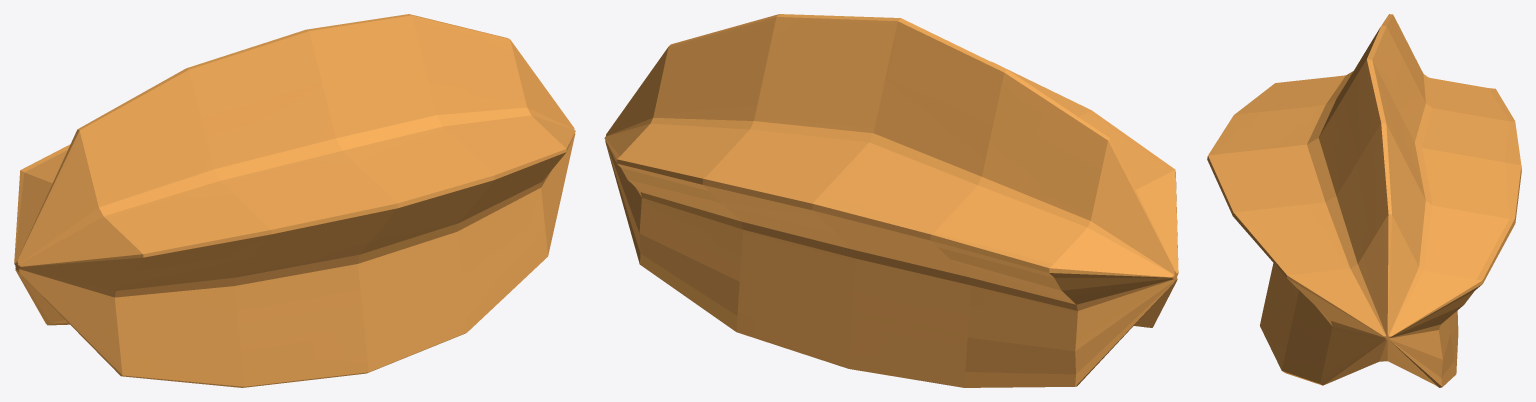
File: Carambola_Inteira.fbx
3 renders of one model, left to right at view 1: azimuth 30°, elevation 25°; view 2: azimuth 150°, elevation 25°; view 3: azimuth 270°, elevation 25°, orthographic. The views are drawn at different scales.
Parts seen in each view (by area): view 1: Cylinder.001; view 2: Cylinder.001; view 3: Cylinder.001.
Part boxes in pixels (box(x1,y1,x2,y2)): Cylinder.001: box(14, 14, 575, 387); Cylinder.001: box(604, 14, 1178, 387); Cylinder.001: box(1207, 14, 1521, 387).
Size of the model in its own units: 37.38 by 19.68 by 20.41.
